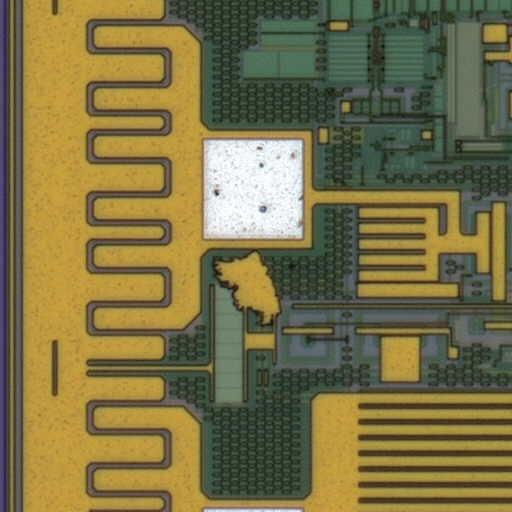BLOCK ETCH: (203, 245, 294, 331)
